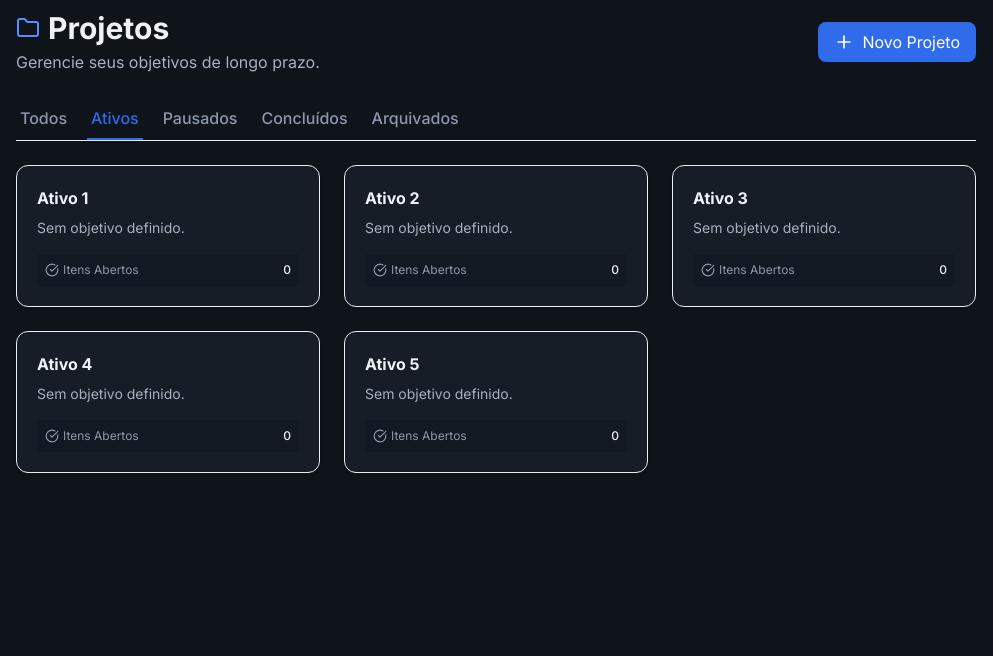
ProjetosPage — filtros › filtro "Todos" mostra os sete projetos, de qualquer status
Expected: the heading "Ativo 1" is shown, top-left (37, 186), bottom-right (88, 210)
What coordinates should you click on to do the following:
click the button "Todos"
I would click on:
 (44, 123)
Its box is top-left (16, 106), bottom-right (71, 140).
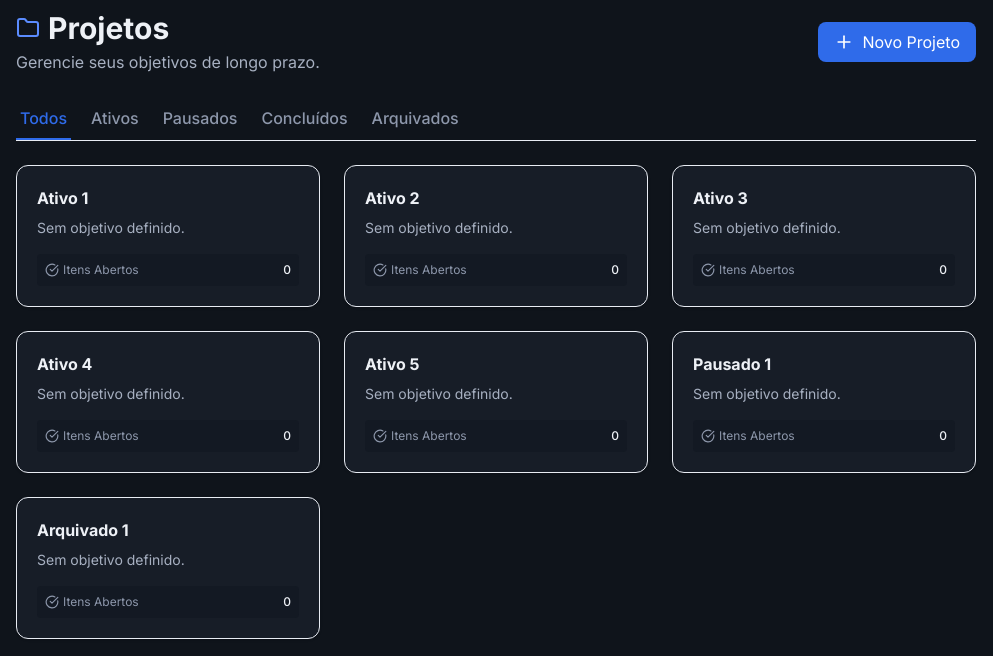
Expected: the heading "Pausado 1" is shown, top-left (693, 352), bottom-right (771, 376)
Expected: the heading "Arquivado 1" is shown, top-left (37, 518), bottom-right (129, 542)
Expected: the number of headings "Ativo 1" is 5, top-left (37, 186), bottom-right (88, 210); top-left (365, 186), bottom-right (420, 210); top-left (693, 186), bottom-right (748, 210); top-left (37, 352), bottom-right (92, 376); top-left (365, 352), bottom-right (420, 376)
